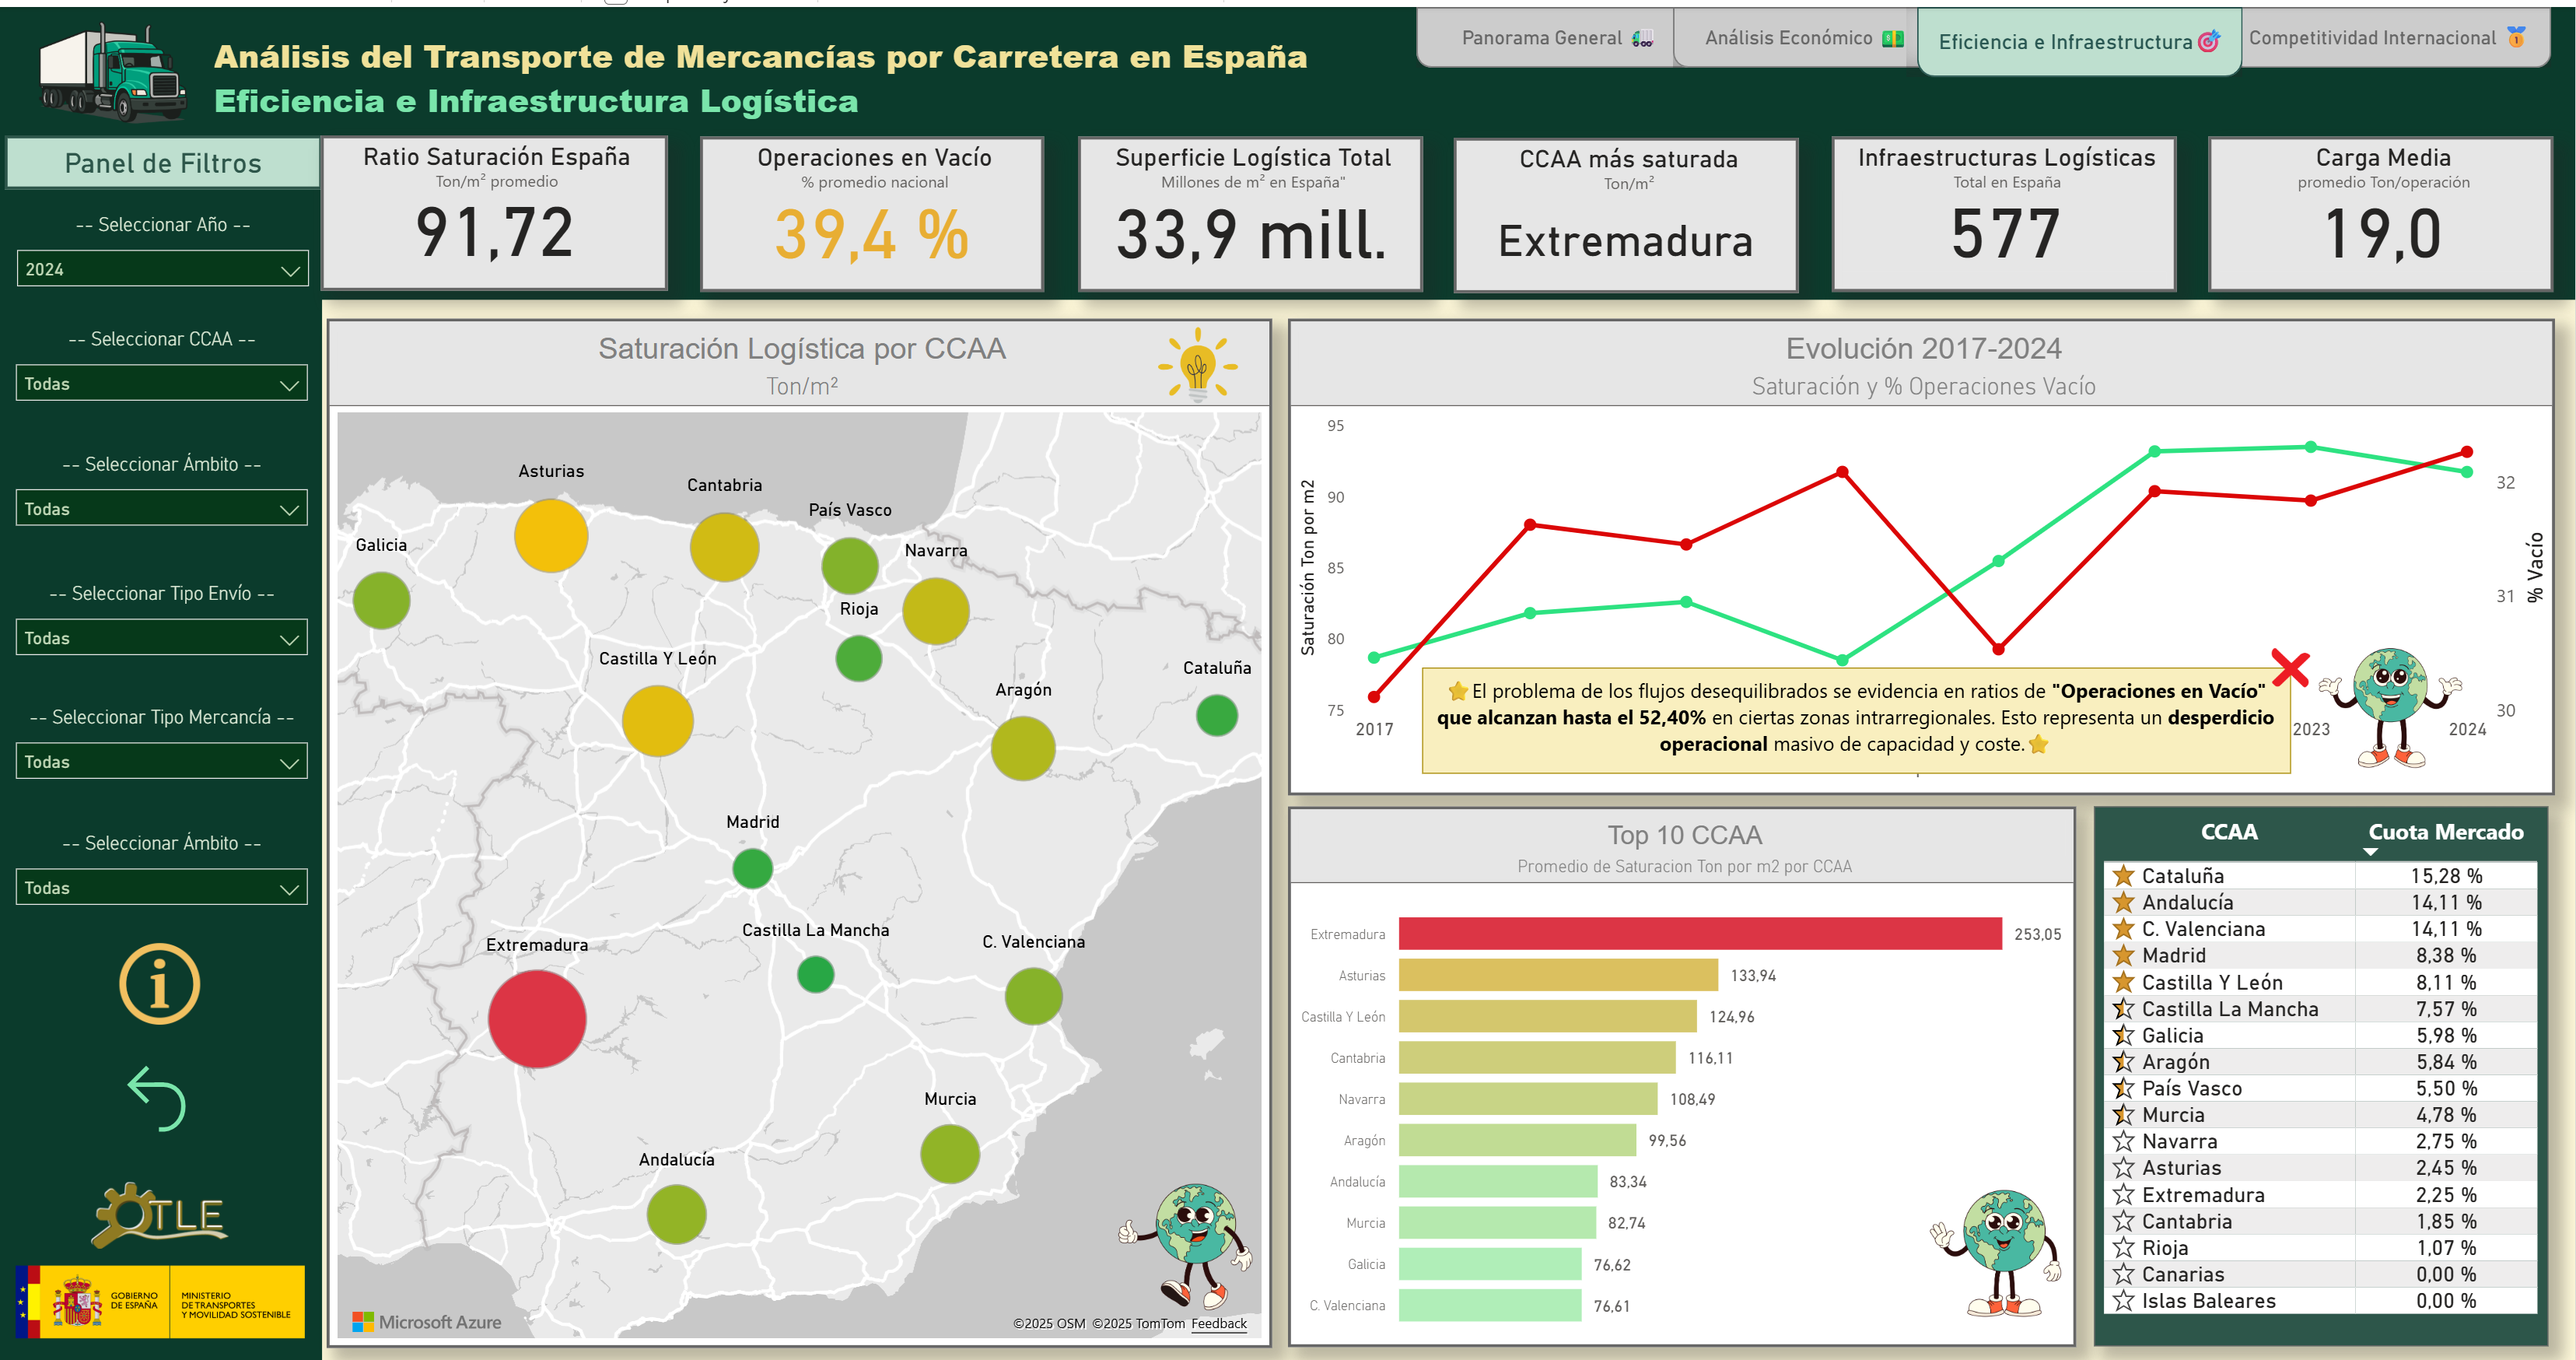

The page's visual inventory and layout, read from the dashboard file:
{"tool":"powerbi","page":{"name":"Eficiencia e Infraestructura","canvas":[1747,920],"ordinal":3},"visuals":[{"type":"group","id":"g1","title":"Panel diseño","box":[0,0,1747,919.7],"z":0},{"type":"shape","box":[0,0,1747,198.6],"z":0,"group":"g1"},{"type":"shape","box":[0,81.2,218.5,838.5],"z":1000,"group":"g1"},{"type":"cardVisual","title":"Infraestructuras Logísticas","fields":{"Data":["Medidas Eficiencia e Infraestructura.Tipos Infraestructura"]},"box":[1242.3,87.8,234.2,105],"z":1000},{"type":"textbox","box":[140.3,12.6,782.4,71],"z":2000,"group":"g1"},{"type":"image","title":"Info Pag 3","box":[75.5,626.8,65.6,71],"z":2000},{"type":"slicer","title":"-- Seleccionar Año --","fields":{"Values":["Dim Año.Año"]},"box":[1.8,140.1,218,63.9],"z":3000},{"type":"slicer","title":"-- Seleccionar CCAA --","fields":{"Values":["CCAA Dim.CCAA"]},"box":[0.9,218,218,63],"z":4000},{"type":"slicer","title":"-- Seleccionar Ámbito --","fields":{"Values":["Tipo Envio Dim.Ámbito"]},"box":[0.9,302,218,63.9],"z":5000},{"type":"slicer","title":"-- Seleccionar Tipo Envío --","fields":{"Values":["Tipo Envio Dim.Tipo Envío"]},"box":[1,390.4,218,63.9],"z":6000},{"type":"textbox","box":[3.2,87,215.2,36.4],"z":7000},{"type":"cardVisual","title":"Ratio Saturación España","fields":{"Data":["Avg(KPI Saturación Logística.Saturacion Ton por m2)"]},"box":[217.6,87,235,105],"z":8000},{"type":"cardVisual","title":"Operaciones en Vacío","fields":{"Data":["Medidas Eficiencia e Infraestructura.Promedio Op Vacio (%)"]},"box":[474.8,87.8,233.4,105],"z":9000},{"type":"cardVisual","title":"Superficie Logística Total","fields":{"Data":["Sum(KPI Saturación Logística.Superficie m2)"]},"box":[731.2,87.8,234.2,105],"z":10000},{"type":"cardVisual","title":"CCAA más saturada","fields":{"Data":["Min(Dim CCAA.CCAA)"]},"box":[985.9,88.6,234.2,105],"z":11000},{"type":"slicer","title":"-- Seleccionar Tipo Mercancía --","fields":{"Values":["Dim Infraestructuras.Tipo Infraestructura"]},"box":[0.9,473.6,218,63],"z":13000},{"type":"azureMap","title":"Saturación Logística por CCAA","fields":{"Category":["Dim CCAA.CCAA","C0516 Infraestructuras Logísticas.Provincia"],"Size":["Avg(KPI Saturación Logística.Saturacion Ton por m2)"]},"box":[221.6,211.2,641.2,697.8],"z":14000},{"type":"shape","box":[1512.6,0,218.2,41.2],"z":15000},{"type":"shape","box":[960.6,0,194.7,41.1],"z":16000},{"type":"shape","box":[1134.7,0,181.2,41.1],"z":17000},{"type":"image","box":[4,846.7,208.9,62.5],"z":18000},{"type":"image","box":[6.3,791.4,204.1,55.8],"z":19000},{"type":"actionButton","box":[77.3,711.3,65.6,57.6],"z":20000},{"type":"shape","box":[1293,0,227.9,47.5],"z":21000},{"type":"cardVisual","title":"Carga Media","fields":{"Data":["Medidas Eficiencia e Infraestructura.Carga media por op"]},"box":[1497.9,87.8,234.2,105],"z":22000},{"type":"lineChart","title":"Evolución 2017-2024","fields":{"Category":["Dim Año.Año"],"Y":["Avg(KPI Saturación Logística.Saturacion Ton por m2)"],"Y2":["Avg(C0285 Operaciones Vacío.% Vacío)"]},"box":[873.6,211.3,859.3,323.6],"z":23000},{"type":"clusteredBarChart","title":"Top 10 CCAA","fields":{"Category":["Dim CCAA.CCAA"],"Y":["Avg(KPI Saturación Logística.Saturacion Ton por m2)"]},"box":[873.2,542.2,534.7,366.8],"z":24000},{"type":"slicer","title":"-- Seleccionar Ámbito --","fields":{"Values":["Dim Infraestructuras.Funcion"]},"box":[1,559.4,218,63.9],"z":25000},{"type":"tableEx","fields":{"Values":["Dim CCAA.CCAA","KPI Cuota Mercado CCAA.Cuota Mercado"]},"box":[1420.4,542,307.8,366],"z":26000},{"type":"image","box":[1567.5,415.4,107.6,119.5],"z":29000},{"type":"image","box":[9.9,0,133.1,86.3],"z":31000},{"type":"image","box":[1303.3,796.8,100.5,99.7],"z":34000},{"type":"image","box":[752.5,791.3,102.1,99.7],"z":35000},{"type":"image","box":[777.9,211.3,70.1,62.9],"z":37000}]}

Visuals, with their boxes in screenshot pixels (x1, y1, x2, y2), scaled from the page's 1747x920 canvas onto the 2576x1360 screenshot:
"Panel diseño" group: rect(0, 0, 2575, 1359)
shape: rect(0, 0, 2575, 293)
shape: rect(0, 120, 322, 1359)
"Infraestructuras Logísticas" cardVisual: rect(1832, 130, 2177, 285)
textbox: rect(207, 19, 1360, 124)
"Info Pag 3" image: rect(111, 927, 208, 1032)
"-- Seleccionar Año --" slicer: rect(2, 207, 324, 302)
"-- Seleccionar CCAA --" slicer: rect(2, 322, 323, 415)
"-- Seleccionar Ámbito --" slicer: rect(2, 447, 323, 541)
"-- Seleccionar Tipo Envío --" slicer: rect(2, 577, 323, 671)
textbox: rect(5, 128, 322, 182)
"Ratio Saturación España" cardVisual: rect(321, 128, 667, 284)
"Operaciones en Vacío" cardVisual: rect(700, 130, 1045, 285)
"Superficie Logística Total" cardVisual: rect(1078, 130, 1423, 285)
"CCAA más saturada" cardVisual: rect(1454, 131, 1799, 286)
"-- Seleccionar Tipo Mercancía --" slicer: rect(2, 700, 323, 794)
"Saturación Logística por CCAA" azureMap: rect(327, 312, 1272, 1344)
shape: rect(2231, 0, 2552, 61)
shape: rect(1416, 0, 1703, 61)
shape: rect(1673, 0, 1941, 61)
image: rect(6, 1252, 314, 1344)
image: rect(9, 1170, 310, 1253)
actionButton: rect(114, 1051, 211, 1137)
shape: rect(1906, 0, 2242, 70)
"Carga Media" cardVisual: rect(2209, 130, 2554, 285)
"Evolución 2017-2024" lineChart: rect(1288, 312, 2555, 790)
"Top 10 CCAA" clusteredBarChart: rect(1287, 801, 2076, 1344)
"-- Seleccionar Ámbito --" slicer: rect(2, 827, 323, 921)
tableEx - Dim CCAA.CCAA x KPI Cuota Mercado CCAA.Cuota Mercado: rect(2095, 801, 2548, 1342)
image: rect(2312, 614, 2470, 790)
image: rect(15, 0, 211, 128)
image: rect(1922, 1178, 2070, 1325)
image: rect(1110, 1169, 1260, 1317)
image: rect(1147, 312, 1251, 405)
